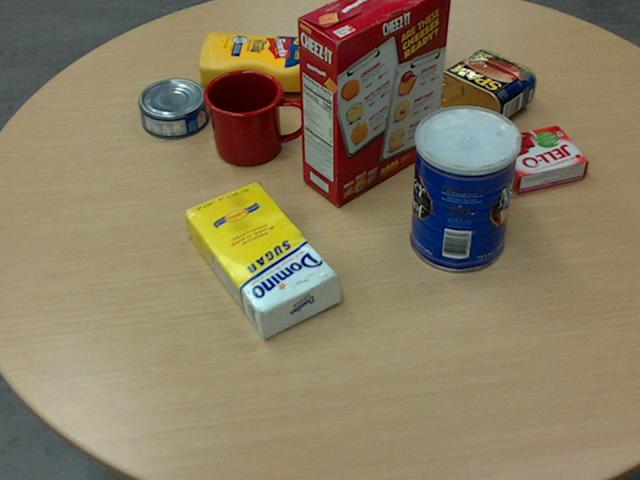cracker_box: (296, 0, 451, 204)
gelatin_box: (490, 123, 587, 191)
large_marker: (365, 21, 383, 110)
master_chef_can: (409, 105, 519, 272)
mug: (202, 69, 304, 165)
mustard_bottle: (198, 30, 351, 91)
potted_meat_can: (431, 49, 535, 132)
sugar_box: (180, 180, 340, 339)
tomato_soup_can: (371, 0, 423, 73)
tuna_fish_can: (137, 77, 208, 137)
